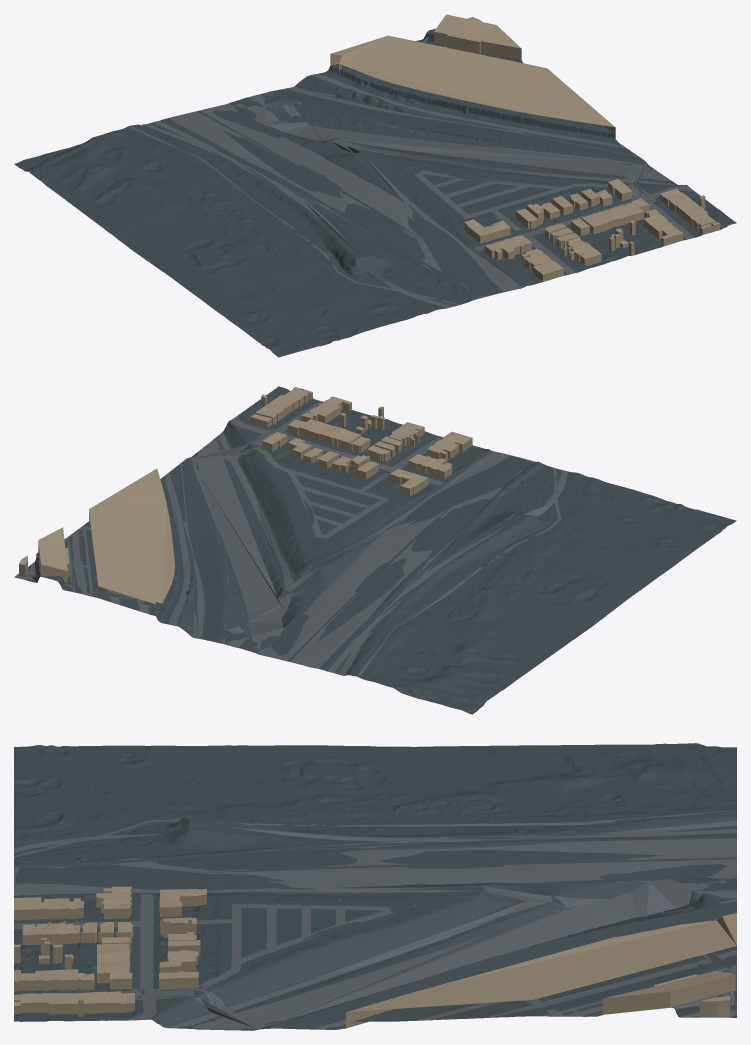
File: epsg26910-1423-10868.lod0.glb
3 views of the same model, one above another, from view 1: azimuth 30°, elevation 25°; view 2: azimuth 150°, elevation 25°; view 3: azimuth 270°, elevation 25° (orthographic). The views are drawn at different scales.
Parts seen in each view (by area): view 1: epsg26910-1423-10868-lod0; view 2: epsg26910-1423-10868-lod0; view 3: epsg26910-1423-10868-lod0.
Boxes of the visible parts, left/top/right/bottom form: epsg26910-1423-10868-lod0: left=14, top=14, right=736, bottom=357; epsg26910-1423-10868-lod0: left=14, top=386, right=736, bottom=714; epsg26910-1423-10868-lod0: left=14, top=743, right=736, bottom=1030.
Bounding box in the file's own units: 384 × 36.85 × 384.
